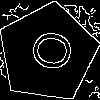O: (22, 28, 73, 73)
